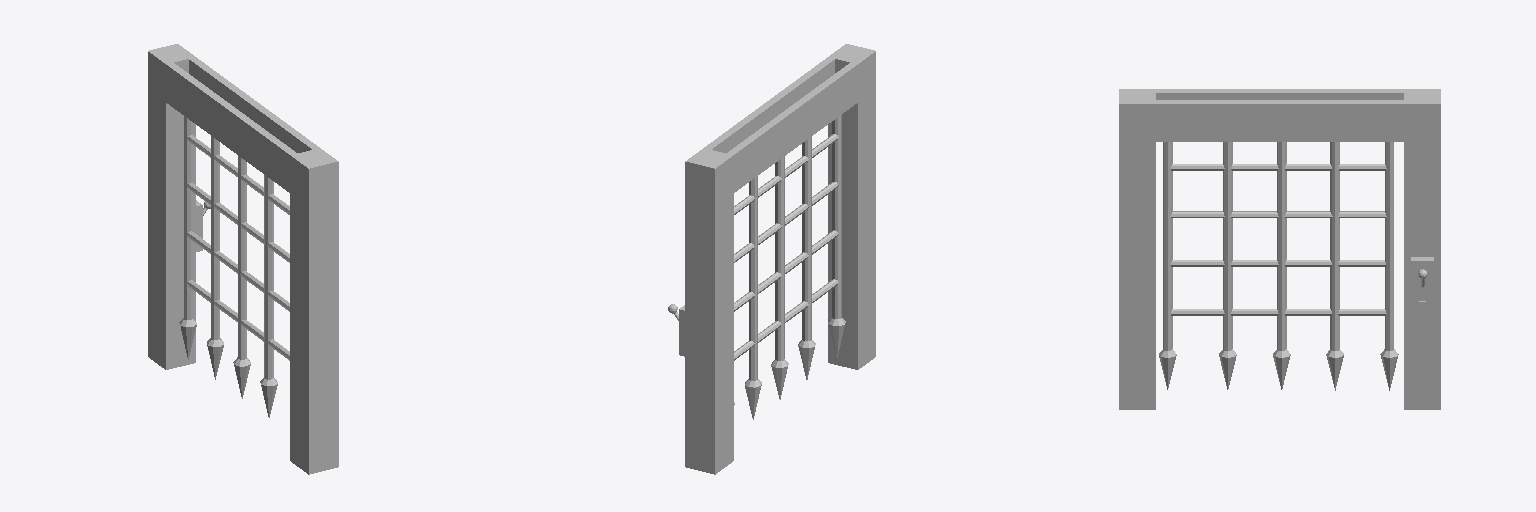
The model's file is Portão.obj.
3 renders of one model, left to right at view 1: azimuth 30°, elevation 25°; view 2: azimuth 150°, elevation 25°; view 3: azimuth 270°, elevation 25°, orthographic.
Parts seen in each view (by area): view 1: Portão_Cylinder.033; view 2: Portão_Cylinder.033; view 3: Portão_Cylinder.033.
Part boxes in pixels (x1,y1,x2,y2): Portão_Cylinder.033: (148, 44, 338, 474); Portão_Cylinder.033: (668, 44, 875, 474); Portão_Cylinder.033: (1119, 89, 1440, 409).
Bounding box in the file's own units: 2.54 × 13.32 × 12.71.